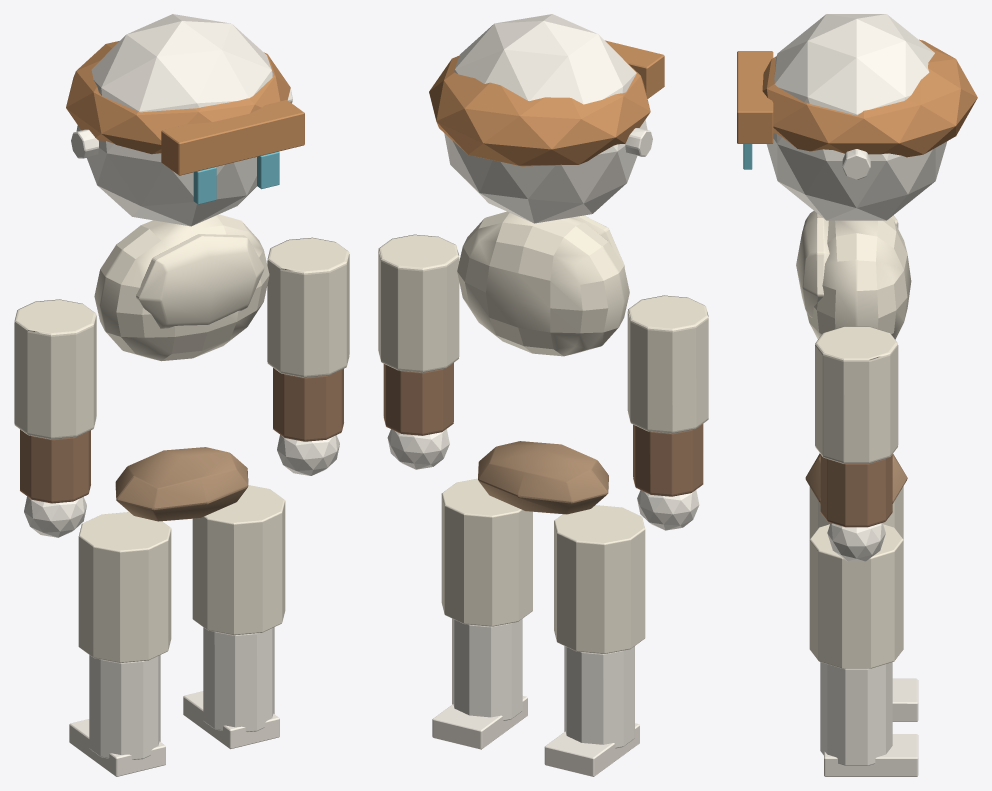
File: knight_base.glb
The picture shows the model from 3 angles, left to right: view 1: azimuth 30°, elevation 25°; view 2: azimuth 150°, elevation 25°; view 3: azimuth 270°, elevation 25°; orthographic projection.
Parts seen in each view (by area): view 1: Head, Body, Leg_R, Leg_L, Arm_R, Arm_L; view 2: Head, Body, Leg_R, Leg_L, Arm_R, Arm_L; view 3: Head, Leg_L, Arm_L, Body, Leg_R.
Part boxes in pixels (x1,y1,x2,y2): Head: (66, 14, 304, 226); Body: (94, 214, 269, 521); Leg_R: (69, 512, 171, 776); Leg_L: (183, 485, 285, 749); Arm_R: (14, 299, 96, 537); Arm_L: (267, 237, 349, 475); Head: (429, 14, 664, 223); Body: (457, 211, 629, 514); Leg_R: (544, 505, 645, 776); Leg_L: (432, 478, 532, 749); Arm_R: (627, 295, 708, 530); Arm_L: (378, 234, 459, 469); Head: (737, 14, 977, 220); Leg_L: (809, 524, 918, 776); Arm_L: (815, 326, 898, 561); Body: (796, 211, 911, 504); Leg_R: (809, 486, 918, 721).
Bounding box in the file's own units: 1.02 × 2.19 × 0.6649.
